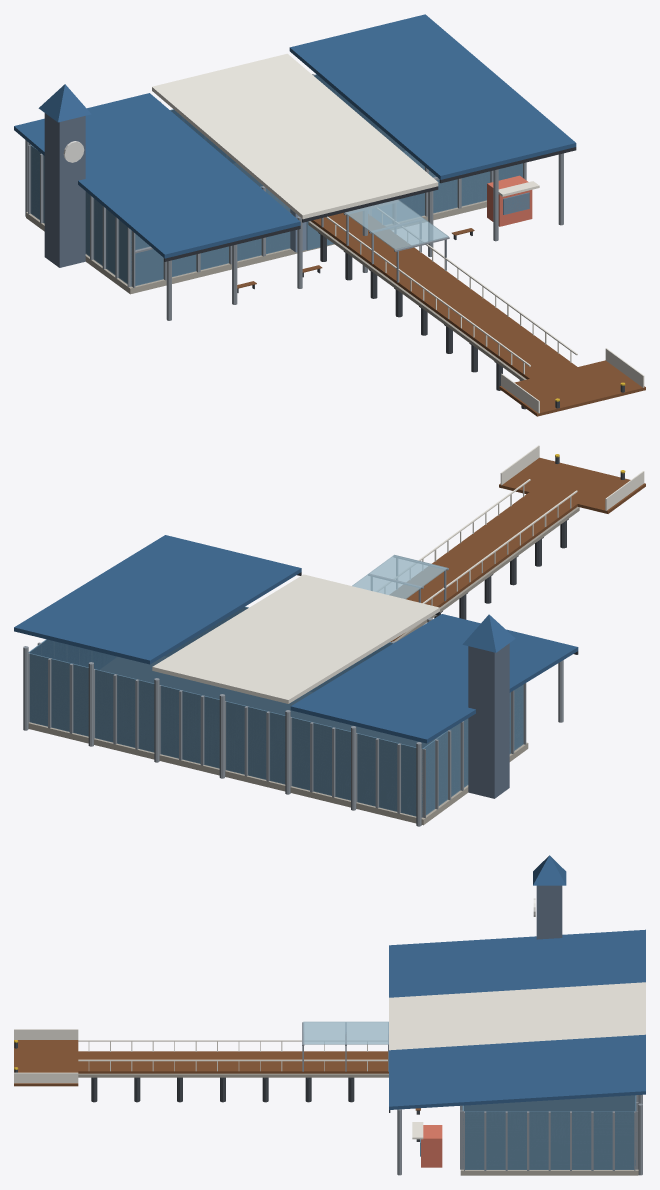
The model's file is BUILDING_18.obj.
3 views of the same model, one above another, from view 1: azimuth 30°, elevation 25°; view 2: azimuth 150°, elevation 25°; view 3: azimuth 270°, elevation 25° (orthographic). The views are drawn at different scales.
Parts seen in each view (by area): view 1: canopy_roof, walkway, glazing, clock_tower, boarding_platform, walkway_cover, canopy_columns, mullions, plinth, ticket_booth, walkway_rail, walkway_piles (+2 smaller); view 2: canopy_roof, glazing, walkway, clock_tower, mullions, concourse, boarding_platform, canopy_columns, plinth, walkway_cover, walkway_rail, clock_roof (+1 smaller); view 3: canopy_roof, glazing, walkway, boarding_platform, walkway_cover, concourse, mullions, walkway_rail, clock_tower, walkway_piles, ticket_booth, plinth (+2 smaller).
Boxes of the visible parts, x1,y1,x2,y2 form: canopy_roof: [14, 14, 576, 261]; walkway: [308, 212, 577, 380]; glazing: [30, 74, 522, 286]; clock_tower: [44, 113, 85, 267]; boarding_platform: [499, 348, 645, 416]; walkway_cover: [321, 199, 449, 282]; canopy_columns: [25, 101, 563, 320]; mullions: [28, 74, 526, 287]; plinth: [26, 200, 486, 294]; ticket_booth: [487, 175, 539, 226]; walkway_rail: [325, 208, 577, 374]; walkway_piles: [318, 232, 525, 409]; canopy_roof: [14, 535, 578, 743]; glazing: [28, 606, 523, 816]; walkway: [390, 492, 579, 642]; clock_tower: [468, 643, 509, 798]; mullions: [28, 641, 526, 817]; concourse: [29, 607, 441, 748]; boarding_platform: [499, 445, 645, 513]; canopy_columns: [23, 617, 563, 826]; plinth: [28, 722, 528, 825]; walkway_cover: [352, 554, 448, 602]; walkway_rail: [376, 479, 577, 605]; clock_roof: [462, 614, 515, 652]; canopy_roof: [389, 929, 645, 1112]; glazing: [462, 1095, 636, 1169]; walkway: [78, 1051, 388, 1077]; boarding_platform: [14, 1029, 78, 1086]; walkway_cover: [302, 1021, 388, 1071]; concourse: [464, 1095, 635, 1111]; mullions: [460, 1095, 638, 1170]; walkway_rail: [78, 1040, 387, 1071]; clock_tower: [536, 885, 562, 939]; walkway_piles: [91, 1077, 354, 1102]; ticket_booth: [412, 1122, 442, 1167]; plinth: [460, 1169, 638, 1175].
Size of the model in its own units: 39.85 by 15.4 by 59.
